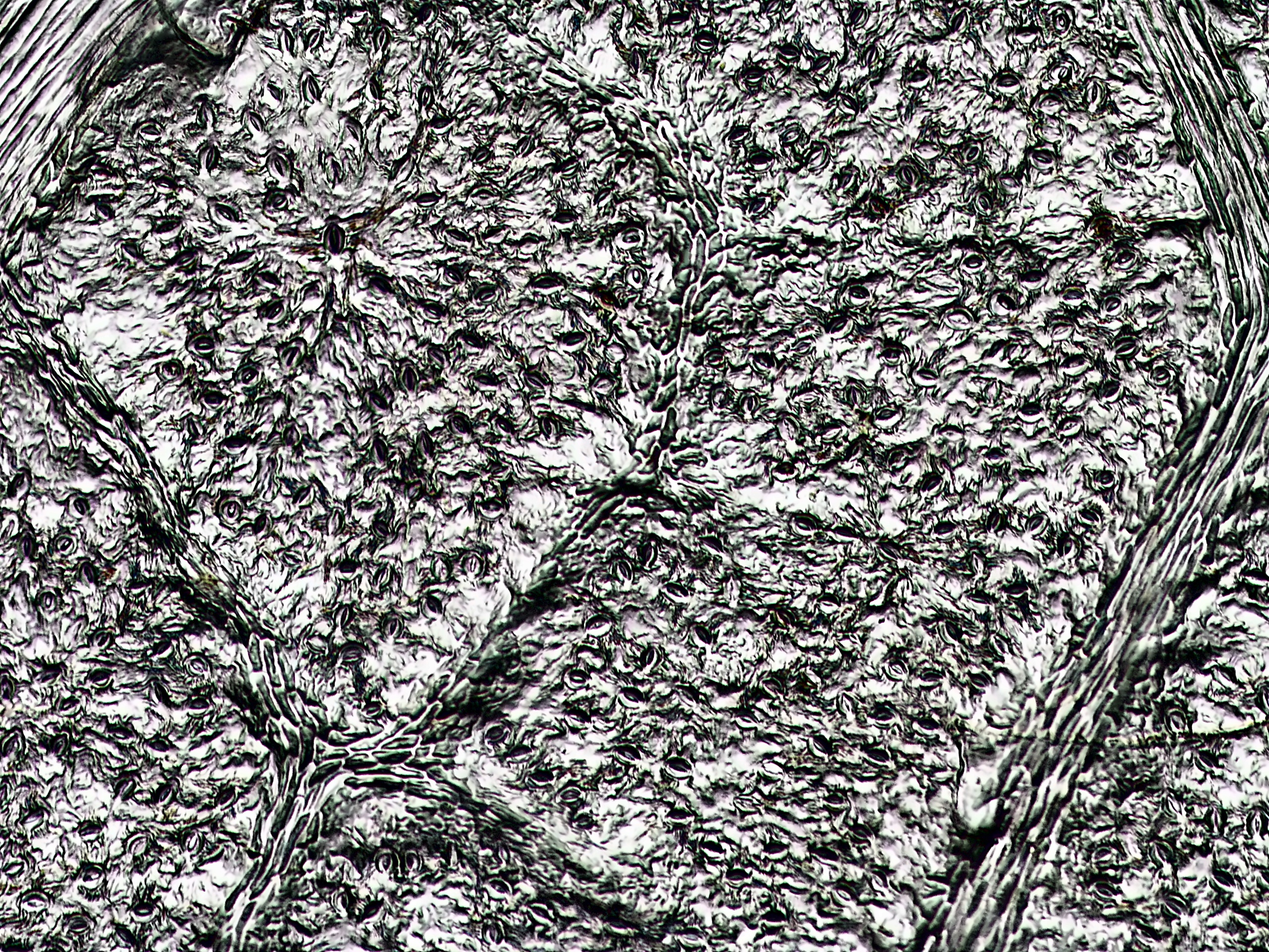stomata: (526, 270, 568, 295), (262, 187, 295, 218), (0, 728, 26, 766), (601, 914, 642, 937), (267, 149, 293, 185), (469, 180, 501, 209), (209, 197, 242, 225), (152, 774, 178, 809), (1163, 891, 1194, 919), (1085, 77, 1109, 113), (616, 222, 644, 252), (1033, 89, 1064, 116), (298, 71, 321, 107), (17, 888, 50, 913), (187, 332, 221, 356), (562, 666, 594, 691), (618, 685, 650, 710), (613, 742, 645, 767), (442, 222, 478, 244), (77, 862, 105, 890), (1194, 748, 1223, 775), (985, 631, 1012, 660), (339, 114, 365, 144), (589, 373, 620, 398), (461, 552, 486, 583), (1058, 532, 1083, 563), (476, 496, 508, 520), (130, 901, 163, 924), (552, 208, 582, 233), (709, 380, 734, 410), (483, 917, 508, 947), (943, 306, 974, 330), (989, 291, 1020, 315), (872, 406, 904, 429), (1246, 807, 1269, 839), (197, 142, 218, 177), (365, 274, 400, 295), (68, 491, 95, 518), (279, 341, 305, 369), (1099, 379, 1125, 407), (637, 646, 663, 674), (689, 622, 717, 648), (118, 238, 151, 260), (1163, 706, 1188, 735), (746, 148, 776, 172), (183, 653, 213, 677), (809, 845, 843, 866), (152, 216, 183, 239), (528, 902, 559, 925), (415, 428, 437, 460), (475, 281, 502, 307), (744, 193, 771, 219), (1113, 333, 1140, 359), (360, 899, 387, 925), (593, 182, 618, 210), (298, 279, 323, 307), (484, 875, 512, 900), (338, 643, 367, 667), (1047, 316, 1076, 340), (371, 437, 392, 470), (1059, 355, 1092, 376), (196, 98, 218, 129), (382, 611, 404, 642), (843, 382, 869, 408), (421, 298, 446, 325), (449, 412, 474, 439), (420, 593, 445, 620), (1211, 866, 1238, 891), (276, 27, 297, 59), (834, 167, 858, 195), (235, 363, 263, 387), (107, 723, 139, 744), (184, 695, 216, 716), (1212, 664, 1240, 688), (806, 143, 829, 172), (1059, 283, 1088, 306), (582, 612, 611, 635), (137, 119, 167, 141), (9, 469, 31, 499), (879, 342, 910, 363), (733, 794, 764, 815), (158, 358, 184, 383), (429, 555, 454, 581), (920, 473, 945, 499), (828, 313, 852, 340), (1057, 414, 1084, 438), (779, 415, 802, 443), (665, 756, 693, 779), (676, 929, 708, 949), (561, 708, 593, 728), (64, 911, 93, 933), (663, 581, 692, 603), (252, 268, 282, 289), (145, 734, 175, 755), (982, 446, 1012, 467), (332, 887, 353, 917), (327, 224, 346, 257), (692, 30, 718, 54), (114, 774, 138, 800), (88, 666, 115, 689), (537, 414, 560, 441), (751, 351, 778, 374), (772, 607, 799, 630), (1019, 270, 1050, 290), (994, 72, 1022, 94), (818, 422, 846, 444), (724, 865, 752, 887), (414, 189, 443, 210), (914, 716, 943, 737), (1089, 845, 1121, 864), (913, 139, 943, 159), (400, 365, 420, 395), (368, 390, 393, 414), (1102, 293, 1127, 317), (835, 692, 859, 717), (1152, 839, 1176, 864), (1029, 147, 1055, 170), (1113, 246, 1139, 269), (936, 617, 959, 643), (913, 365, 940, 387), (148, 679, 170, 706), (875, 539, 902, 561), (266, 80, 285, 111), (346, 317, 365, 348), (516, 232, 544, 253), (950, 7, 971, 35), (844, 283, 872, 304), (886, 447, 910, 471), (53, 534, 78, 557), (212, 786, 237, 809), (484, 222, 509, 245), (885, 659, 910, 682), (47, 732, 69, 758), (832, 884, 858, 906), (1094, 470, 1120, 492), (869, 707, 899, 726), (626, 265, 647, 292), (560, 331, 587, 352), (79, 561, 100, 588), (220, 497, 241, 524), (791, 513, 818, 534), (226, 251, 261, 267), (459, 333, 487, 353), (698, 535, 726, 555), (965, 587, 993, 607), (374, 22, 392, 53), (808, 734, 831, 758), (627, 46, 646, 75), (762, 841, 791, 860), (759, 759, 788, 778), (863, 746, 892, 765), (281, 423, 303, 448), (522, 369, 547, 391), (305, 633, 330, 655), (376, 848, 398, 873), (962, 139, 983, 165), (294, 483, 315, 509), (183, 829, 204, 855), (1150, 365, 1176, 386), (672, 685, 698, 706), (850, 823, 876, 844), (815, 592, 841, 613), (1017, 403, 1044, 423), (482, 722, 509, 742), (822, 792, 852, 810), (699, 838, 727, 857), (762, 910, 790, 929), (724, 574, 743, 602), (1110, 148, 1133, 171), (1137, 920, 1160, 943), (1164, 793, 1187, 816), (742, 64, 766, 86), (837, 91, 859, 115), (403, 849, 425, 873), (996, 171, 1021, 192), (641, 540, 659, 569), (761, 676, 787, 696), (1095, 880, 1121, 900), (1076, 508, 1102, 528), (244, 110, 263, 137), (200, 390, 227, 409), (329, 507, 346, 537), (937, 425, 967, 442), (779, 123, 802, 145), (429, 113, 457, 131), (255, 511, 273, 539), (471, 372, 499, 390), (1209, 805, 1227, 833), (932, 519, 960, 537), (1025, 512, 1049, 533), (303, 29, 323, 54), (40, 589, 60, 614), (425, 346, 450, 366), (615, 558, 635, 583), (919, 667, 944, 687), (966, 670, 991, 690), (343, 5, 369, 24), (19, 531, 36, 560), (507, 744, 536, 761), (666, 808, 695, 825), (1002, 582, 1031, 599), (570, 813, 597, 831), (869, 870, 891, 892), (467, 145, 490, 166), (493, 416, 516, 437), (1016, 25, 1040, 45), (604, 342, 628, 362), (961, 253, 985, 273), (221, 435, 251, 451), (735, 710, 759, 730), (528, 768, 556, 785), (985, 510, 1004, 535), (517, 132, 535, 158), (77, 822, 103, 840), (974, 192, 994, 215), (1143, 303, 1166, 323), (969, 548, 986, 575), (726, 124, 750, 143), (373, 566, 392, 590), (703, 347, 728, 365), (795, 390, 823, 406), (832, 526, 860, 542), (778, 41, 800, 61), (443, 264, 465, 284), (740, 392, 759, 415), (901, 164, 917, 191), (35, 669, 59, 687), (420, 85, 437, 110), (558, 785, 583, 802), (559, 157, 579, 178), (266, 299, 285, 321), (909, 70, 931, 89), (58, 697, 80, 716), (360, 700, 386, 716), (848, 440, 866, 463), (334, 604, 351, 628), (127, 834, 146, 855), (421, 2, 438, 25), (154, 640, 174, 659), (373, 520, 393, 539), (94, 630, 112, 651), (22, 810, 42, 828), (851, 7, 867, 29), (665, 9, 688, 24), (284, 549, 304, 566), (1054, 64, 1073, 81), (3, 861, 23, 877), (407, 479, 422, 500), (864, 45, 878, 67), (811, 56, 830, 72), (339, 559, 358, 575), (190, 417, 205, 437), (370, 76, 381, 101), (1054, 11, 1067, 32)
